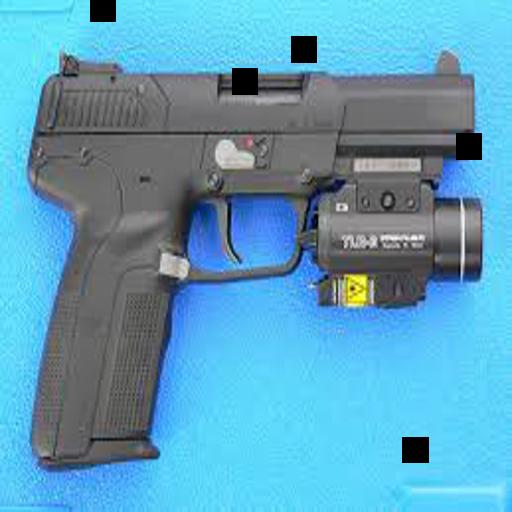Handgun: (10, 38, 481, 460)
